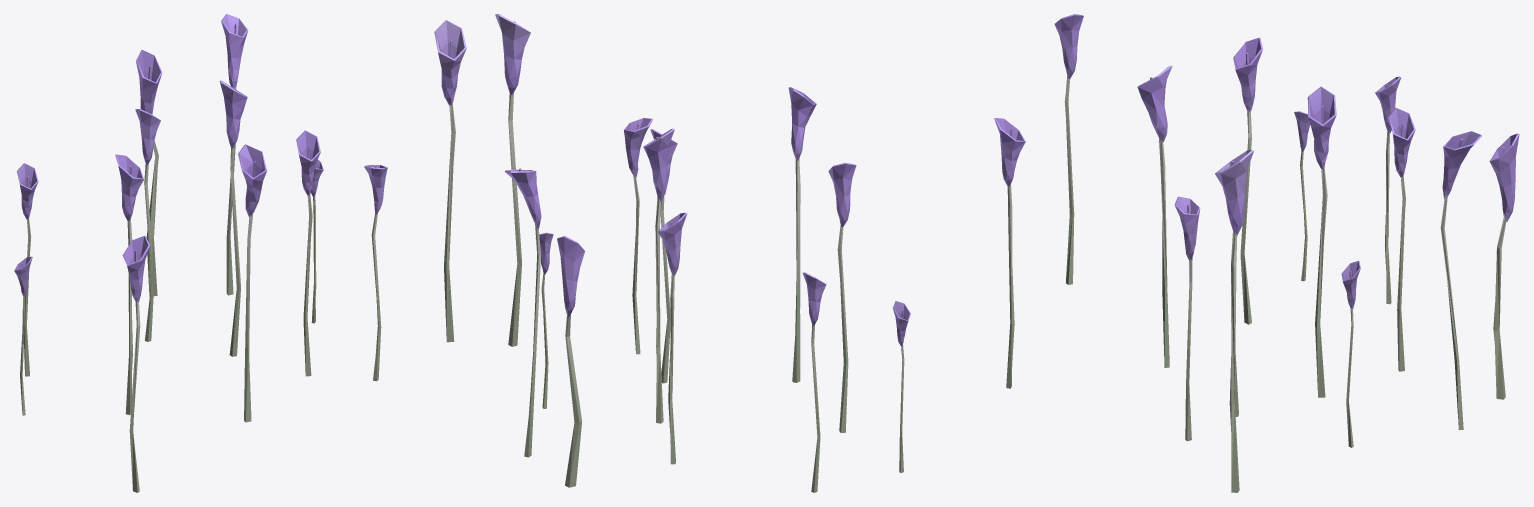
Rendered from flower_lavender.glb.
3 views of the same model, side by side, from view 1: azimuth 30°, elevation 25°; view 2: azimuth 150°, elevation 25°; view 3: azimuth 270°, elevation 25° (orthographic). The views are drawn at different scales.
Parts seen in each view (by area): view 1: Flower 5_2_C; view 2: Flower 5_2_C; view 3: Flower 5_2_C.
Boxes of the visible parts, <box> form: Flower 5_2_C: <box>14,14,466,492</box>; Flower 5_2_C: <box>495,14,1025,492</box>; Flower 5_2_C: <box>1054,14,1519,492</box>.
Bounding box in the file's own units: 0.5006 × 0.36 × 0.4419.
Materials: 1 (1 with a texture image).
